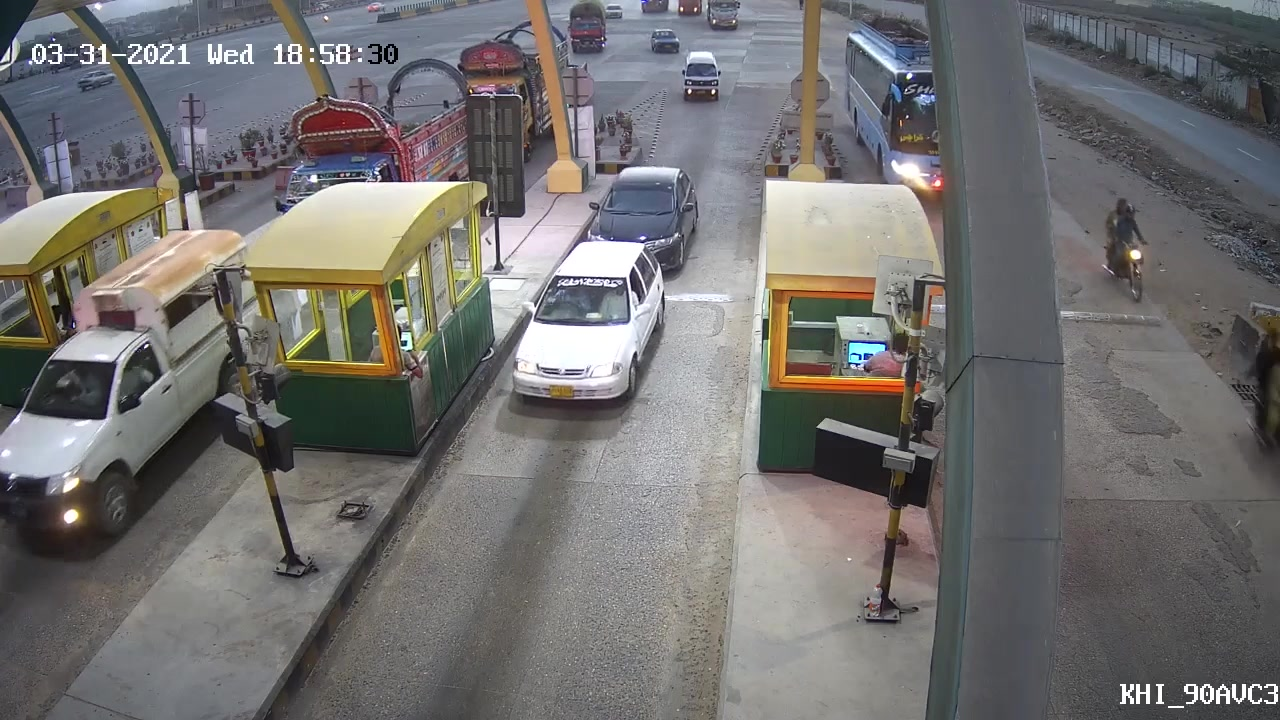F1: (498, 235, 670, 419)
